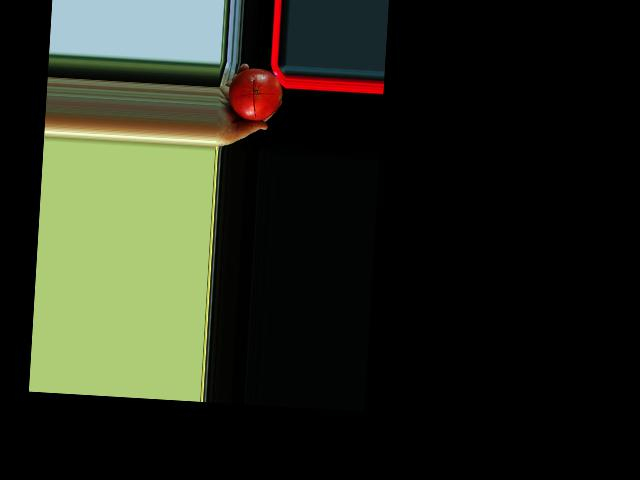tomato: (226, 66, 283, 122)
